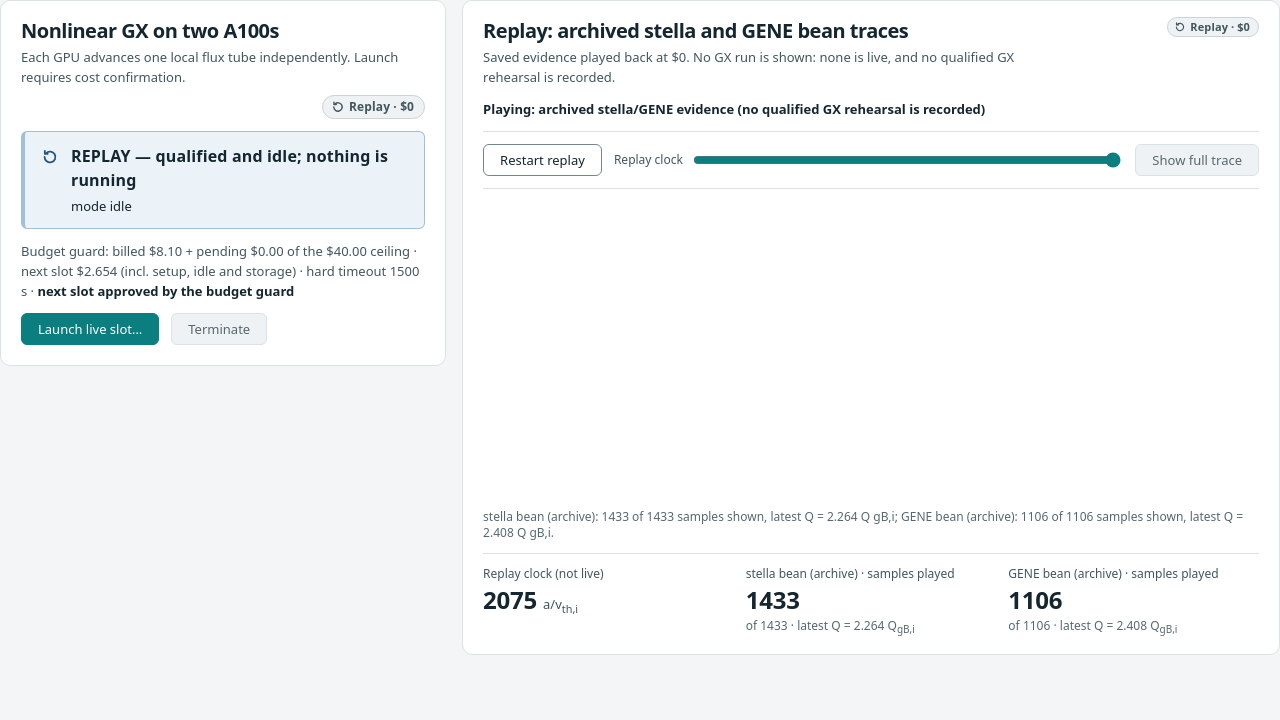
Test: L10 the confirmation shows the exact number it sends, even when the estimate is not a whole cent
The width and height of the screenshot is (1280, 720).
Later steps or results of the test are not shown.
Click the button "Launch live slot…" at (90, 329), box [21, 313, 159, 345]
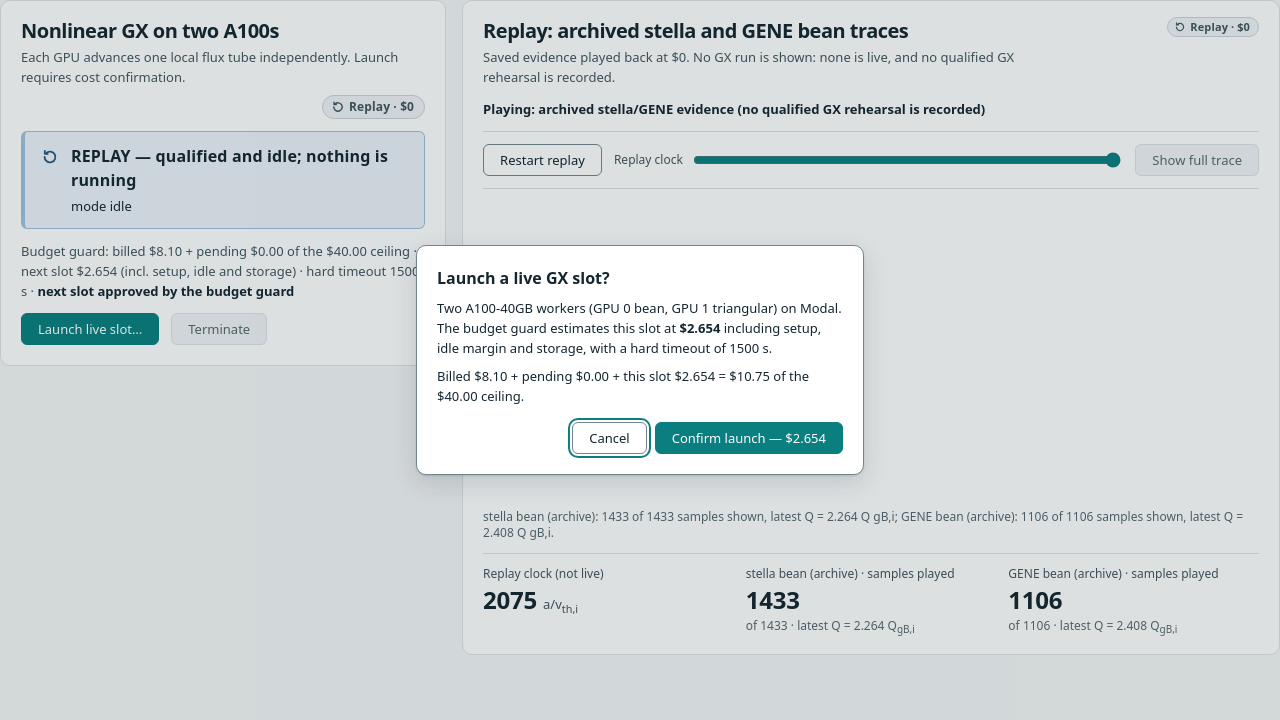
expect the text with test id "confirm-cost" reads "$2.654": met, box [680, 319, 720, 337]
